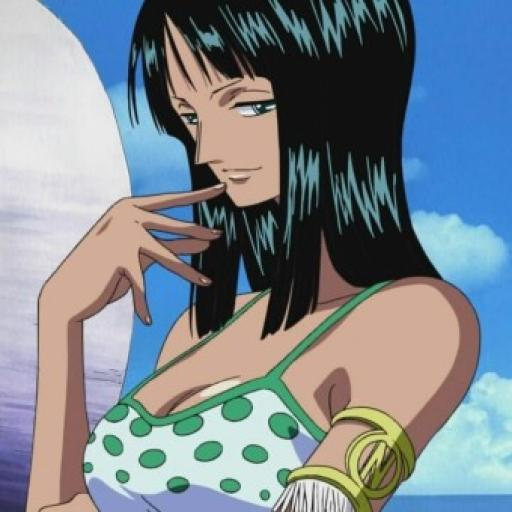NicoRobin: (102, 0, 442, 267)
